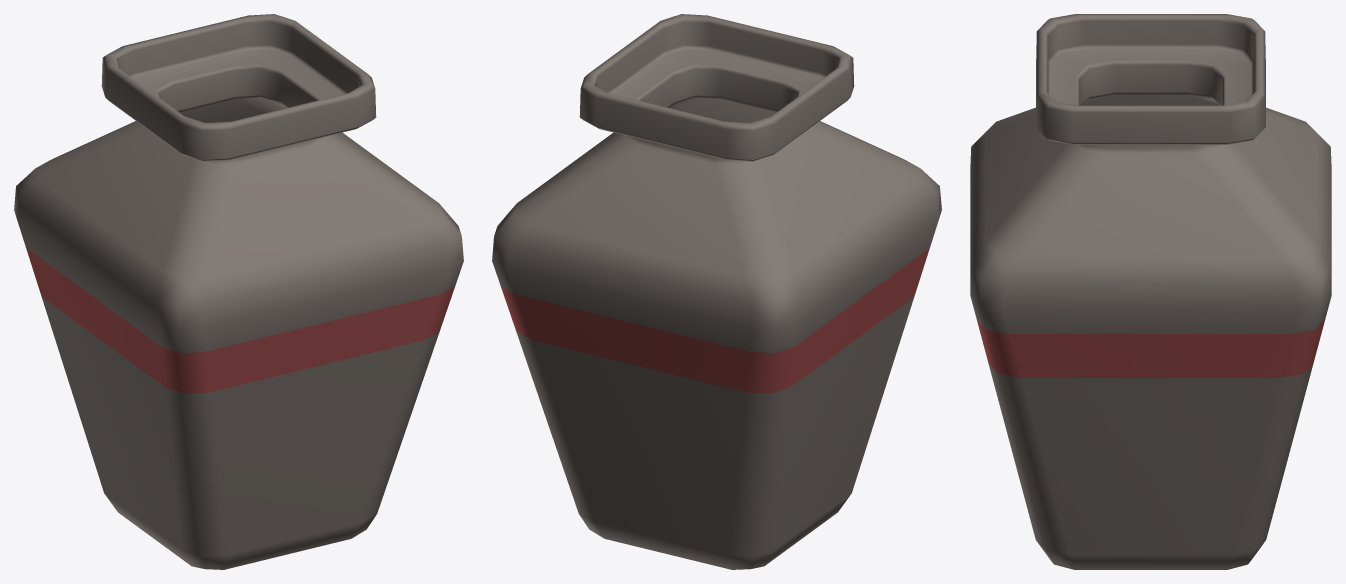
The model's file is MSH_int_Vase2.fbx.
The picture shows the model from 3 angles, left to right: view 1: azimuth 30°, elevation 25°; view 2: azimuth 150°, elevation 25°; view 3: azimuth 270°, elevation 25°; orthographic projection. The views are drawn at different scales.
Parts seen in each view (by area): view 1: Vase2; view 2: Vase2; view 3: Vase2.
Boxes of the visible parts, bbox=[...] form: Vase2: bbox=[14, 14, 463, 569]; Vase2: bbox=[492, 14, 941, 569]; Vase2: bbox=[970, 14, 1331, 569].
Bounding box in the file's own units: 1.76 × 2.55 × 1.76.
